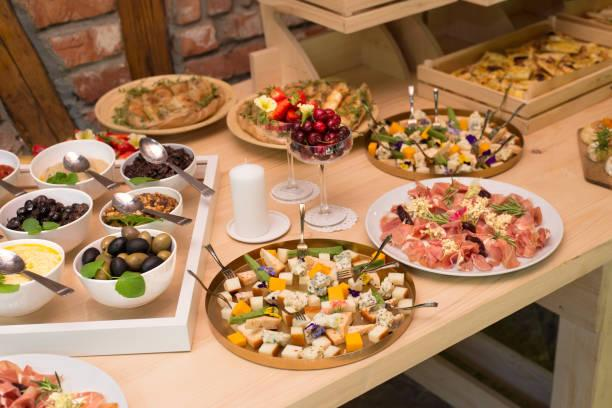Braised Crucian Carp: (204, 239, 413, 370), (366, 178, 561, 277), (369, 108, 522, 181), (226, 89, 369, 151), (95, 73, 233, 135), (74, 230, 176, 309), (0, 186, 93, 255), (30, 139, 117, 201), (99, 186, 183, 236)
